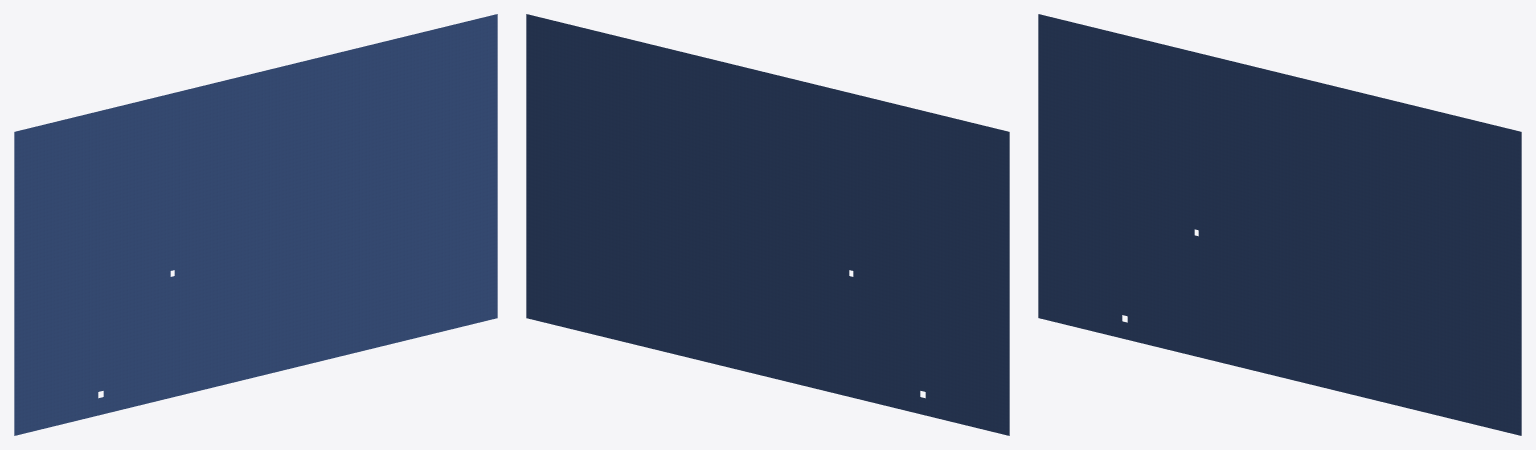
File: floor_1.obj
The picture shows the model from 3 angles, left to right: view 1: azimuth 30°, elevation 25°; view 2: azimuth 150°, elevation 25°; view 3: azimuth 330°, elevation 25°; orthographic projection.
Visible parts, largest first — view 1: floor_1; view 2: floor_1; view 3: floor_1.
Boxes of the visible parts, left/top/right/bottom form: floor_1: left=14, top=14, right=497, bottom=435; floor_1: left=526, top=14, right=1009, bottom=435; floor_1: left=1038, top=14, right=1521, bottom=435.
Size of the model in its own units: 140 by 83.92 by 0.1.
